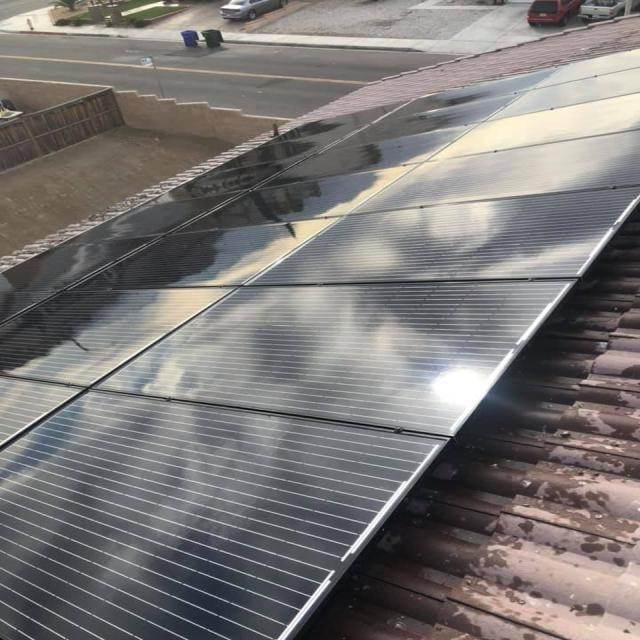clean-solar-panel: (3, 19, 637, 640)
